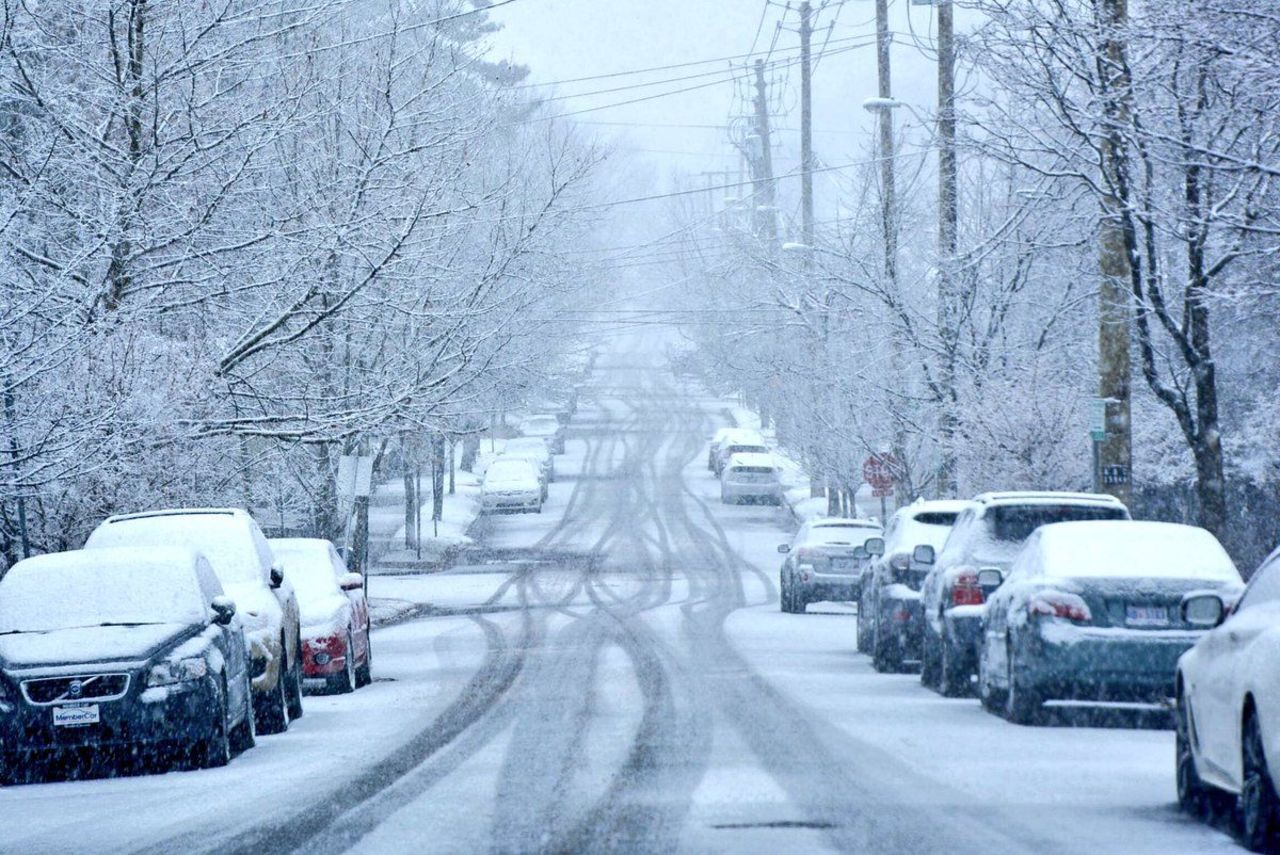car: (28, 532, 266, 770), (977, 529, 1242, 734), (90, 509, 298, 735), (919, 492, 1116, 683), (1184, 544, 1272, 832), (857, 501, 976, 666), (268, 538, 371, 690), (780, 520, 884, 615), (722, 449, 792, 505), (479, 457, 546, 514), (709, 433, 775, 485), (506, 439, 555, 474), (525, 413, 562, 447)
